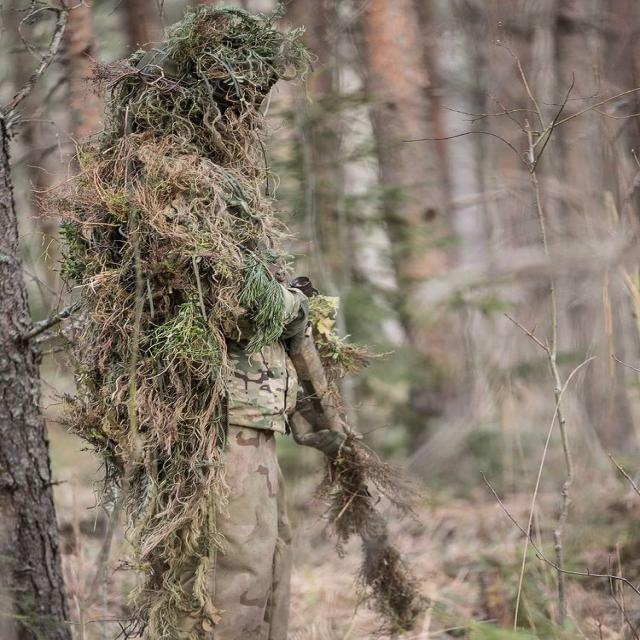Camouflage: (58, 2, 412, 616)
